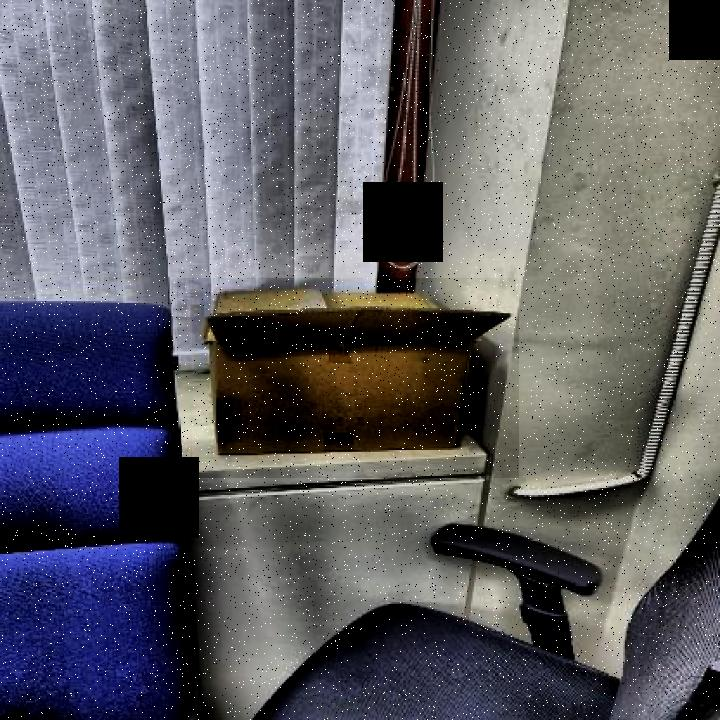box: (177, 278, 519, 478)
